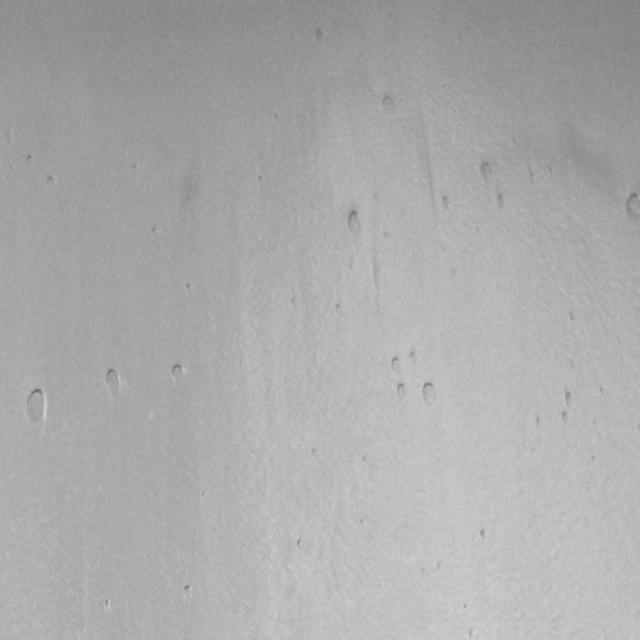pin holes: (23, 387, 51, 432), (473, 159, 499, 199), (102, 366, 127, 401), (417, 380, 440, 410), (344, 208, 364, 239), (622, 190, 639, 223), (379, 92, 402, 116), (168, 361, 188, 387), (437, 192, 457, 216), (496, 191, 510, 214), (44, 172, 60, 192), (312, 26, 328, 46), (395, 380, 410, 400), (476, 526, 492, 544), (558, 408, 573, 427), (391, 355, 404, 376), (182, 583, 196, 601), (564, 390, 578, 408), (294, 537, 308, 554), (408, 346, 421, 364), (24, 152, 37, 169), (100, 597, 113, 614), (184, 281, 197, 298), (334, 300, 346, 318), (128, 161, 142, 176), (308, 446, 322, 460), (534, 413, 546, 429), (360, 452, 369, 469), (151, 223, 158, 238)
